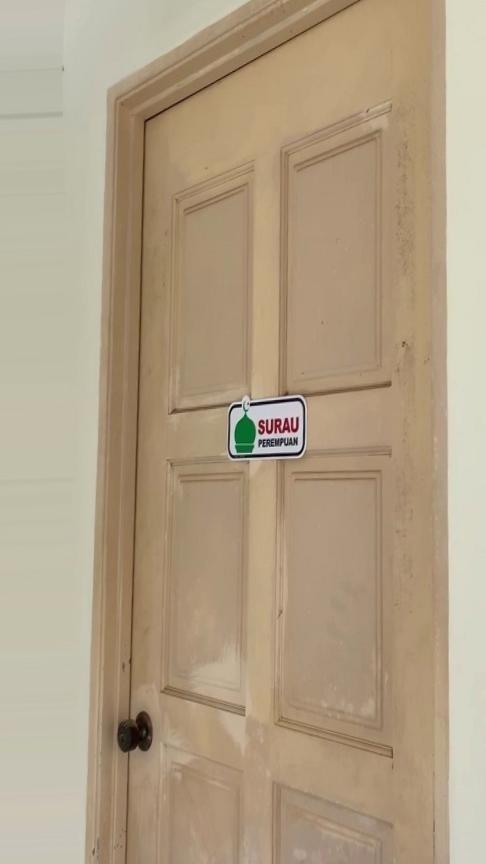door: (126, 92, 430, 864)
